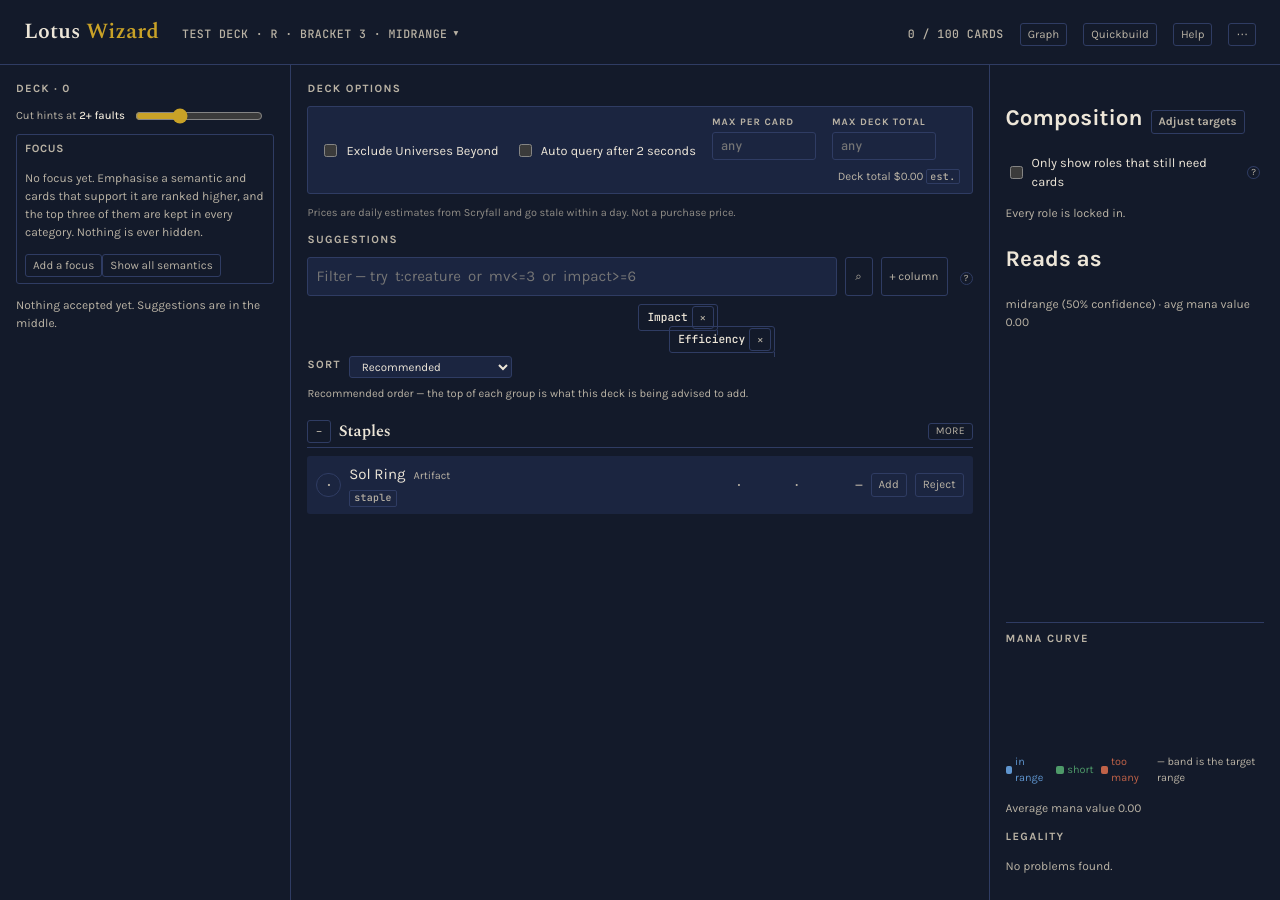
Test case: D5: Help runs the same tour on demand › opens the same seven-step tour a first visit gets
Check: the button "Sol Ring" is shown, box [349,463,603,486]
Click the button "Help" at {"x": 1193, "y": 35}, box [1173,23,1212,46]
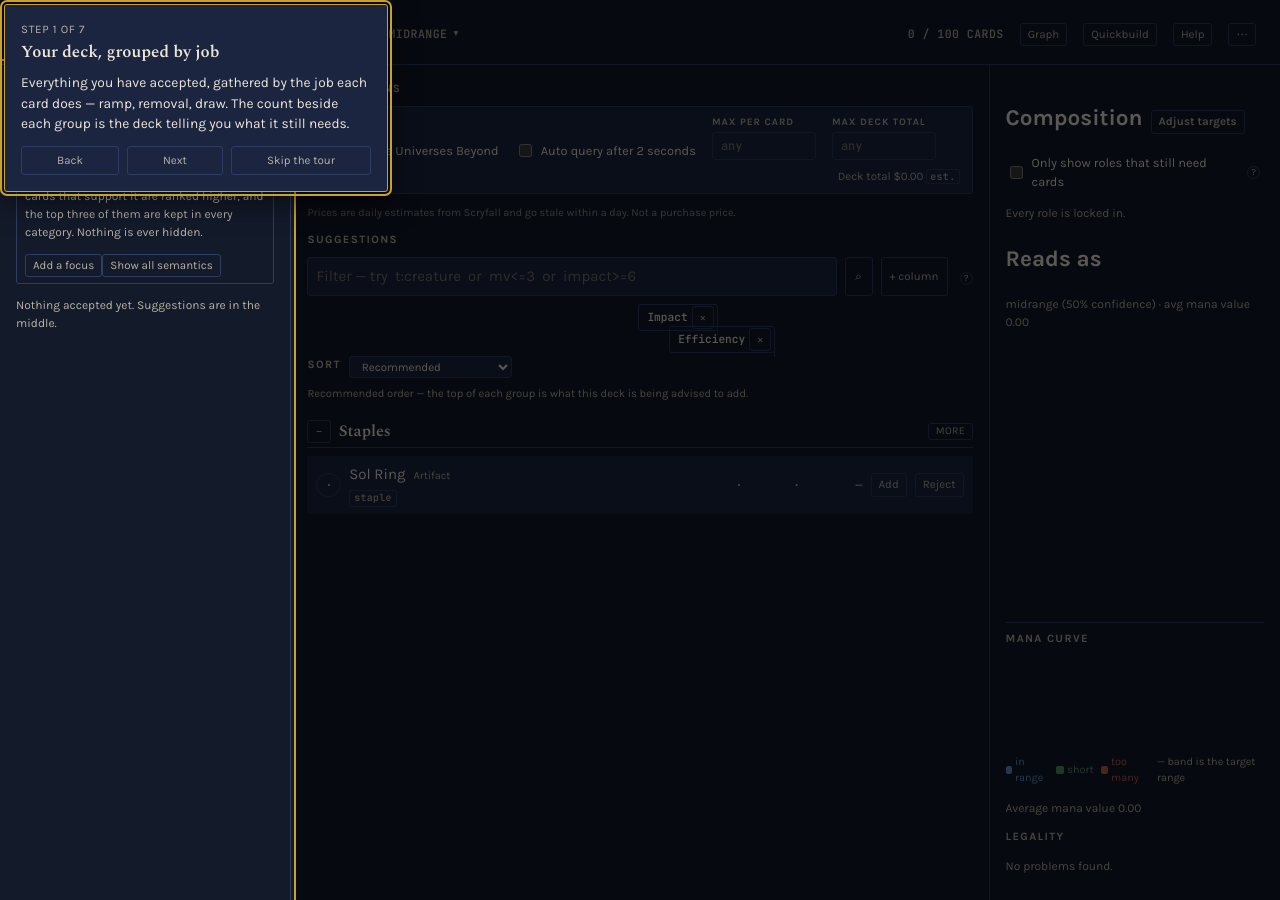
Check: the dialog is shown, box [4,4,388,192]
Check: the text "Step 1 of 7" is shown, box [21,22,85,36]
Check: the heading "Your deck, grouped by job" is shown, box [21,39,219,65]
